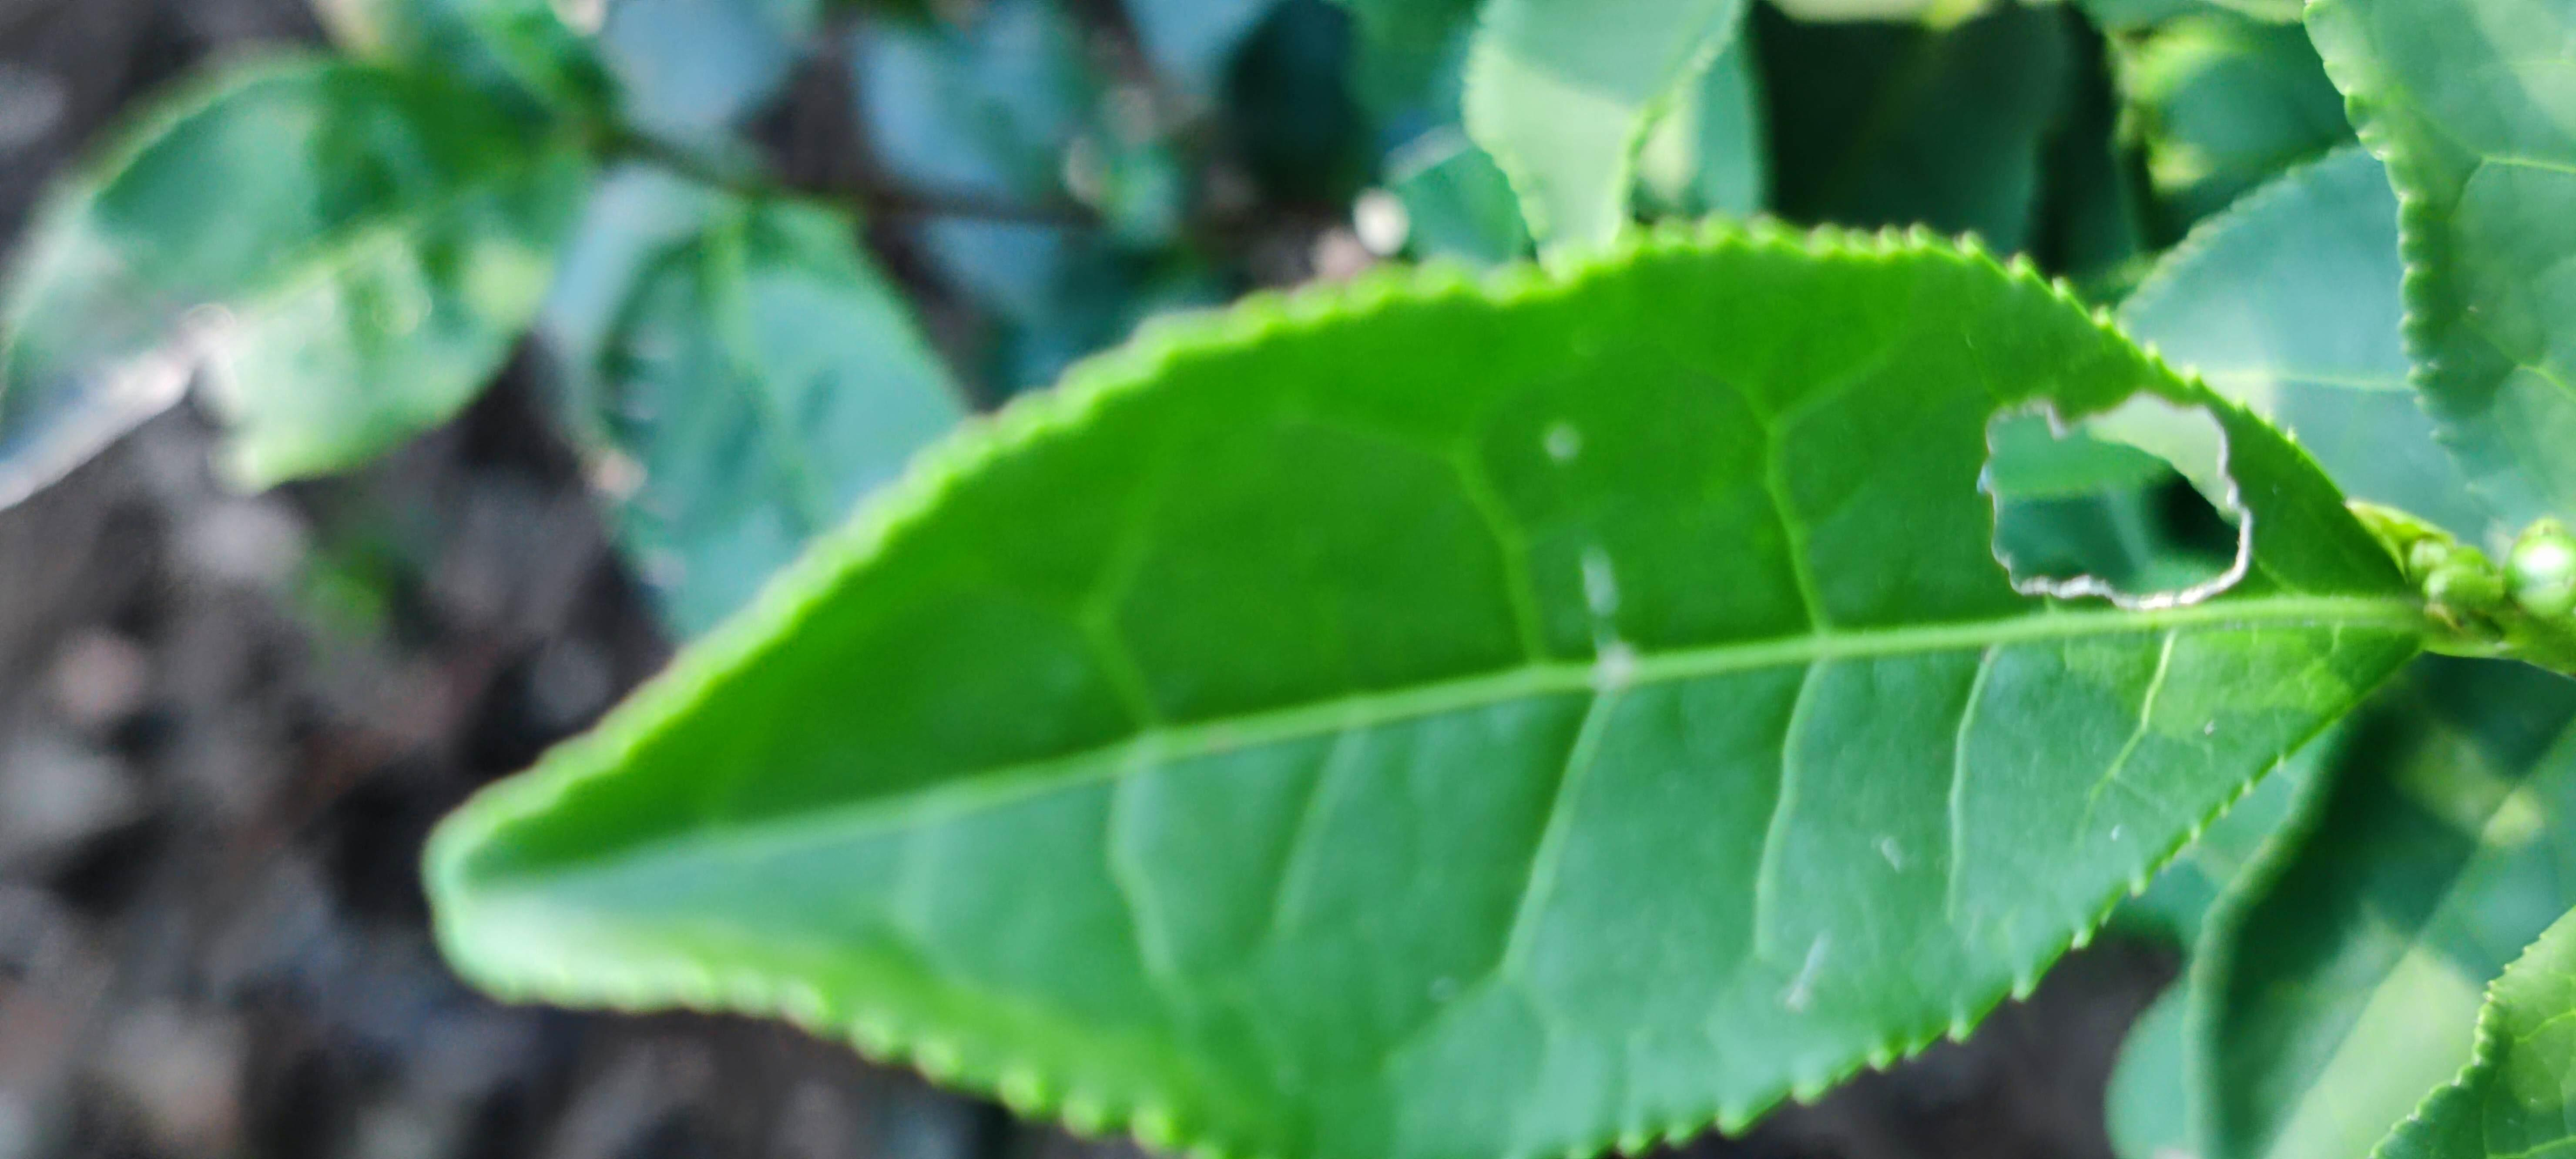chihuo_low: (427, 222, 2430, 1152)
